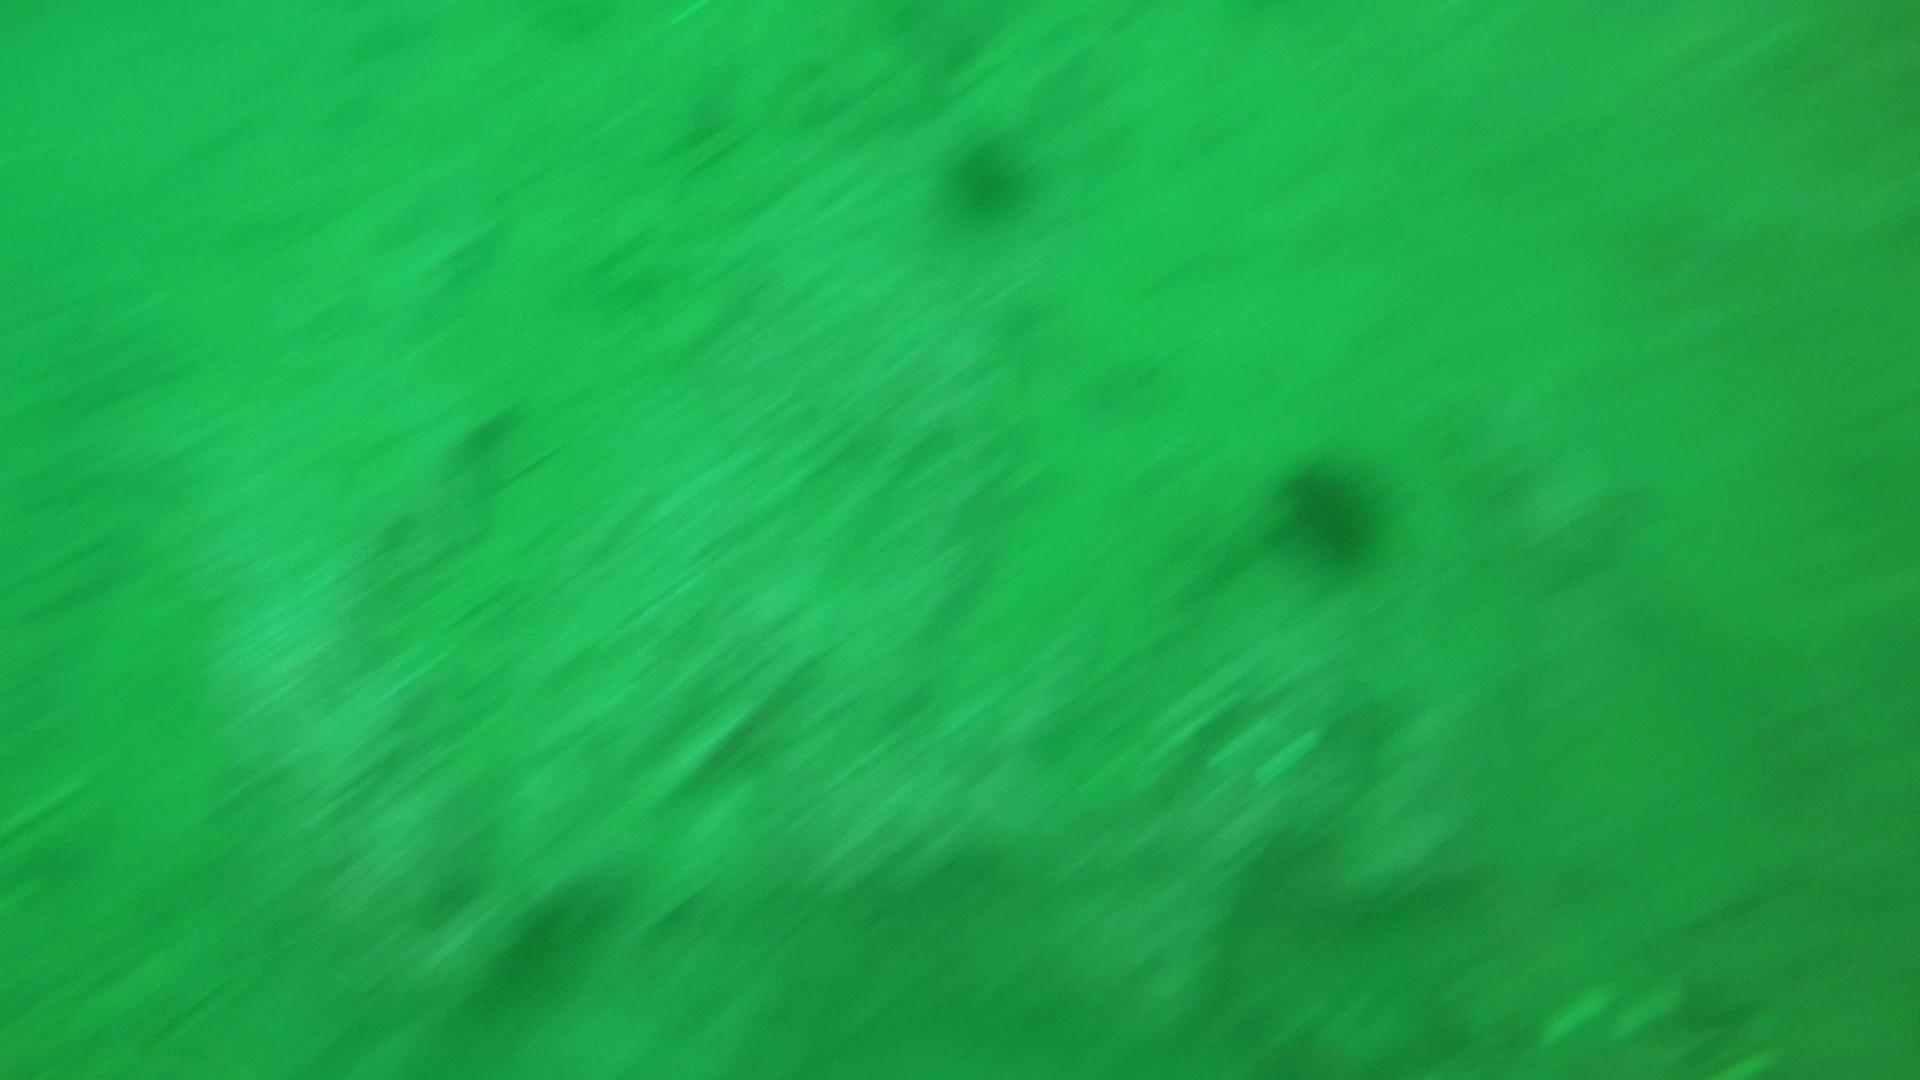echinus: (1271, 446, 1394, 574), (934, 127, 1040, 225)
